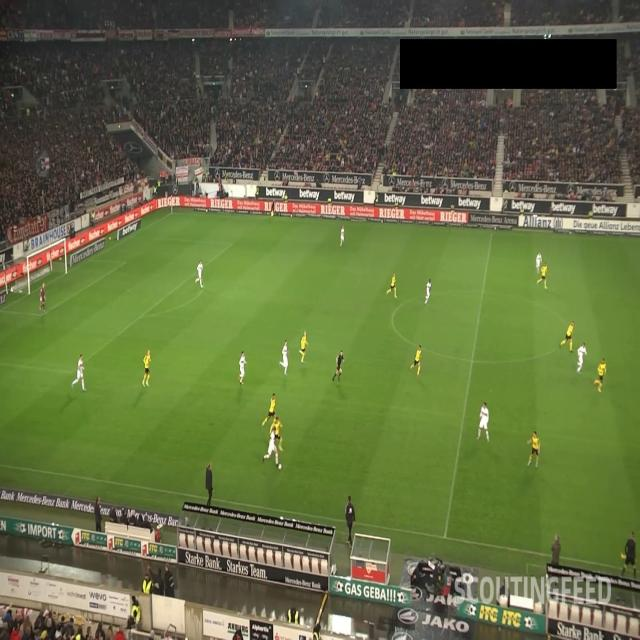ball: (278, 462, 282, 470)
